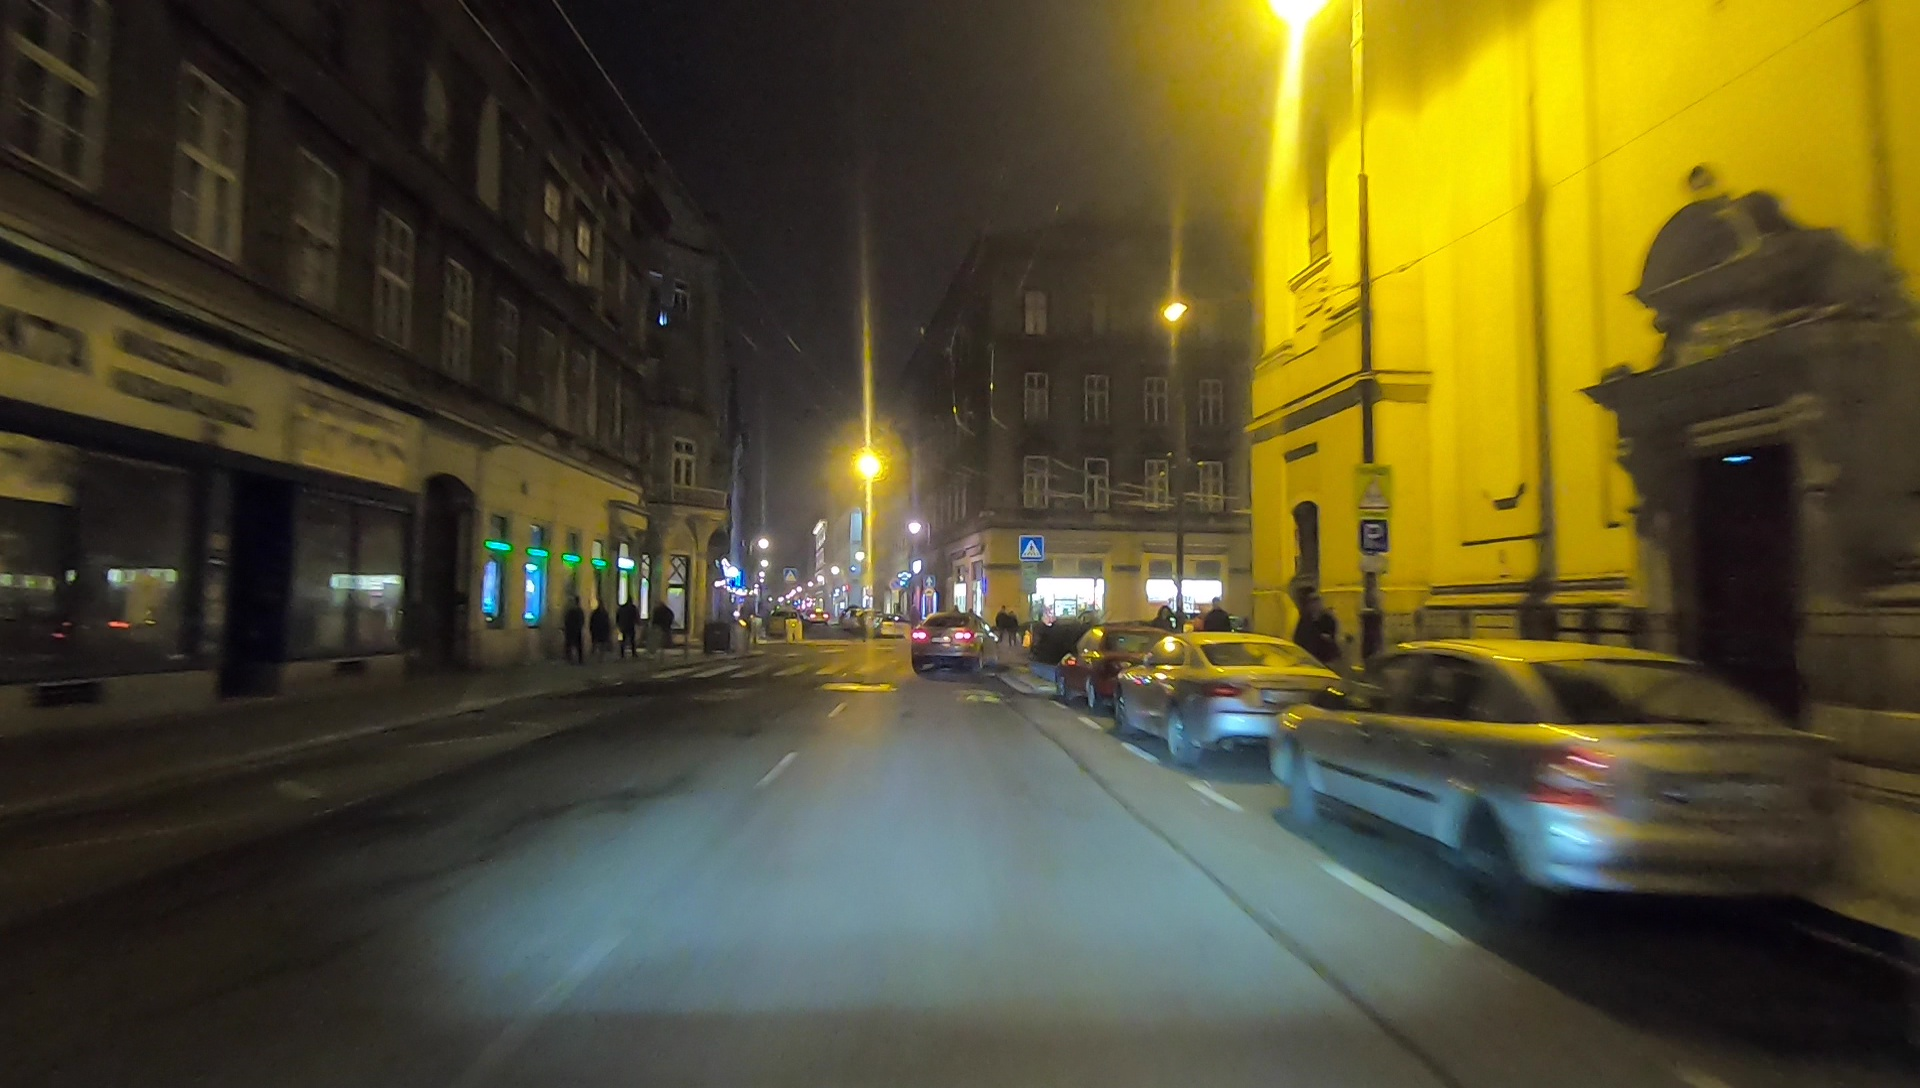person: (1303, 592, 1341, 684), (649, 598, 675, 672), (1206, 599, 1234, 661), (617, 594, 641, 660), (565, 591, 584, 660), (592, 599, 610, 668), (996, 606, 1008, 651)
